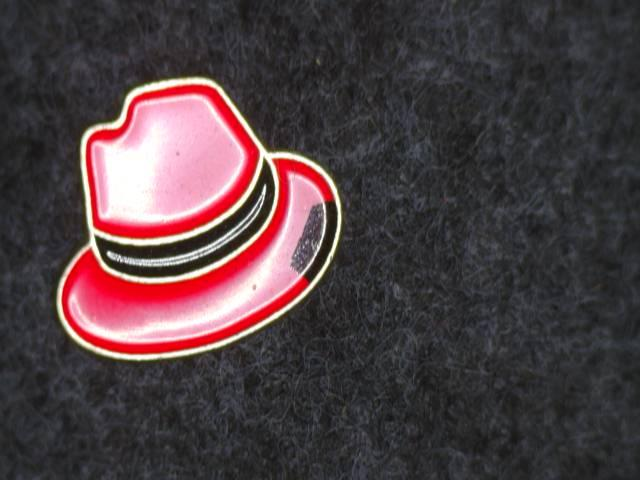Red-Hat: (31, 56, 388, 423)
Scratch: (283, 188, 359, 299)
